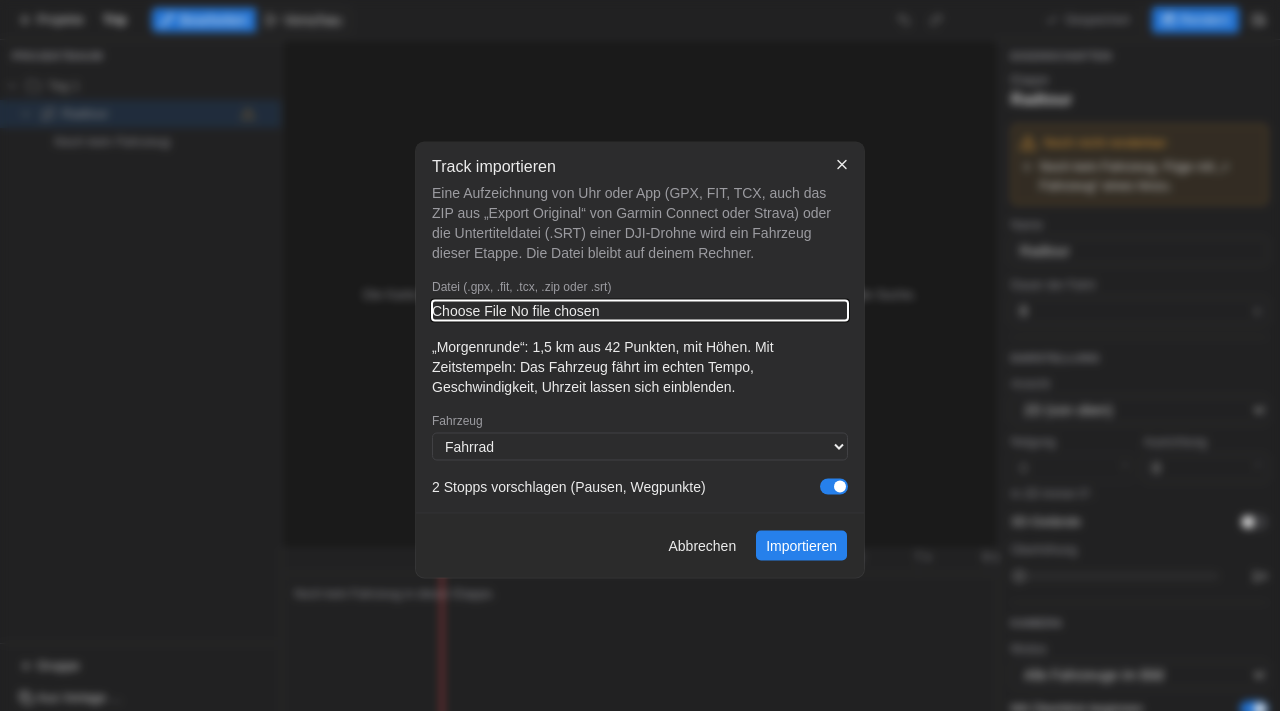
Test: importing a track › turns a GPX file into a vehicle on the imported line, with the suggested stops
Earlier steps of the test are not shown.
Expected: the text "„Morgenrunde“: 1,5 km aus 42 Punkten, mit Höhen." is shown, [432,338,751,354]
Expected: the dropdown labelled "Fahrzeug" shows "Fahrrad", [432,432,848,460]
Click the button "Importieren": (802, 546) [755,530,848,562]
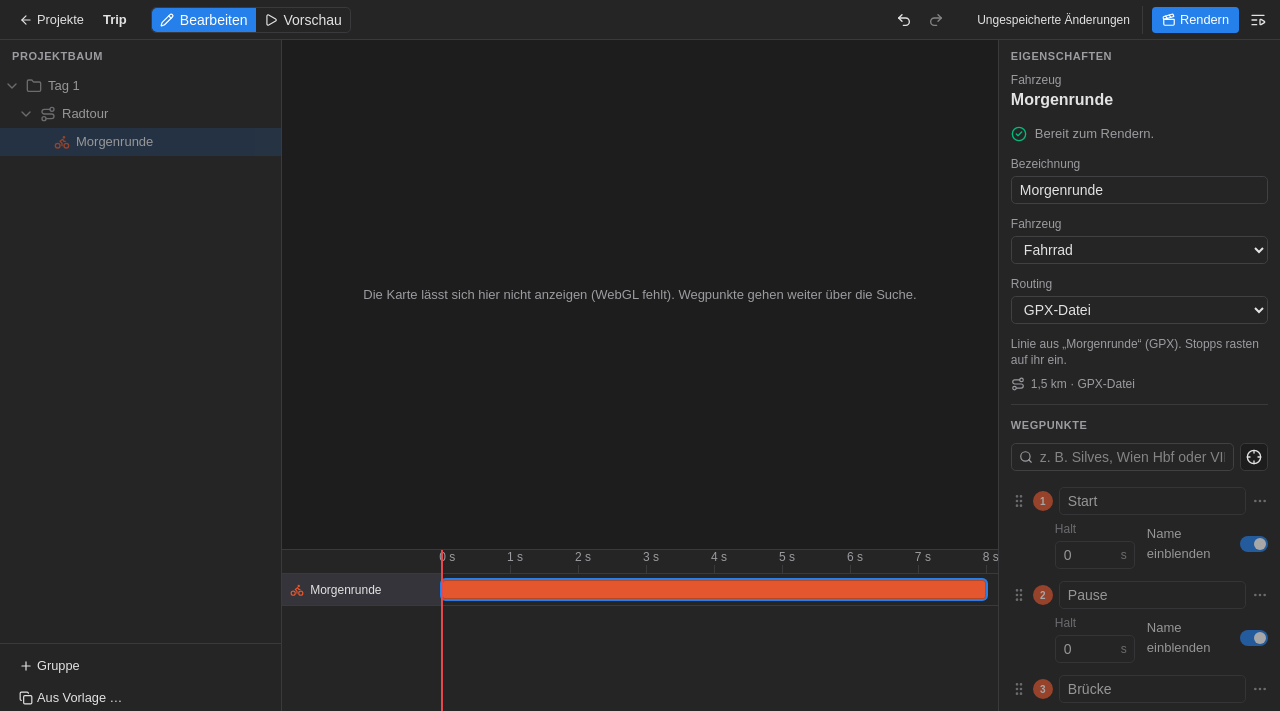
Result: the list item "Morgenrunde" below "Radtour" is shown at [0,128,281,156]
Result: the text "Linie aus „Morgenrunde“ (GPX). Stopps rasten auf ihr ein." is shown at [1011,336,1268,368]
Result: the dropdown labelled "Routing" shows "GPX-Datei" at [1011,296,1268,324]
